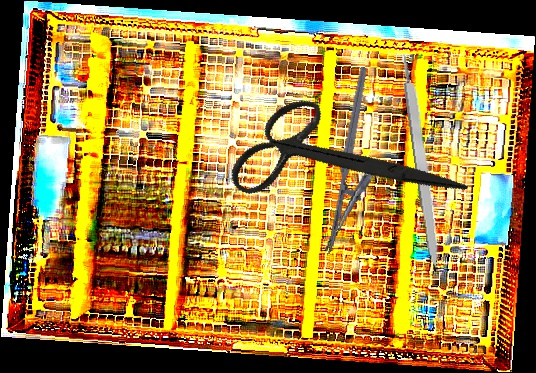Iris Scissors: (213, 53, 469, 270)
Needle Holder: (323, 66, 394, 259)
Scalpel Handle: (398, 50, 446, 275)
